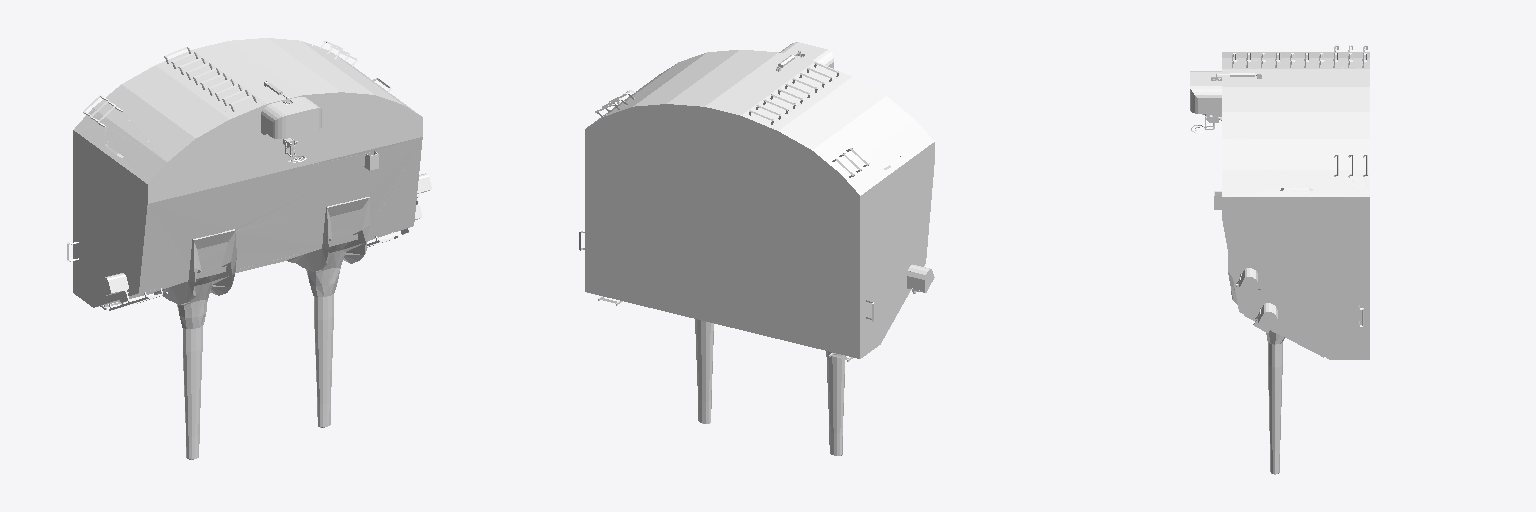
Rendered from mk32_lod0_jpg.obj.
3 renders of one model, left to right at view 1: azimuth 30°, elevation 25°; view 2: azimuth 150°, elevation 25°; view 3: azimuth 270°, elevation 25°, orthographic.
Visible parts, largest first — view 1: Object.1; view 2: Object.1; view 3: Object.1.
Boxes of the visible parts, x1,y1,x2,y2 form: Object.1: [67, 38, 431, 459]; Object.1: [579, 42, 934, 455]; Object.1: [1190, 45, 1369, 474].
Bounding box in the file's own units: 20.4 × 23 × 10.26.